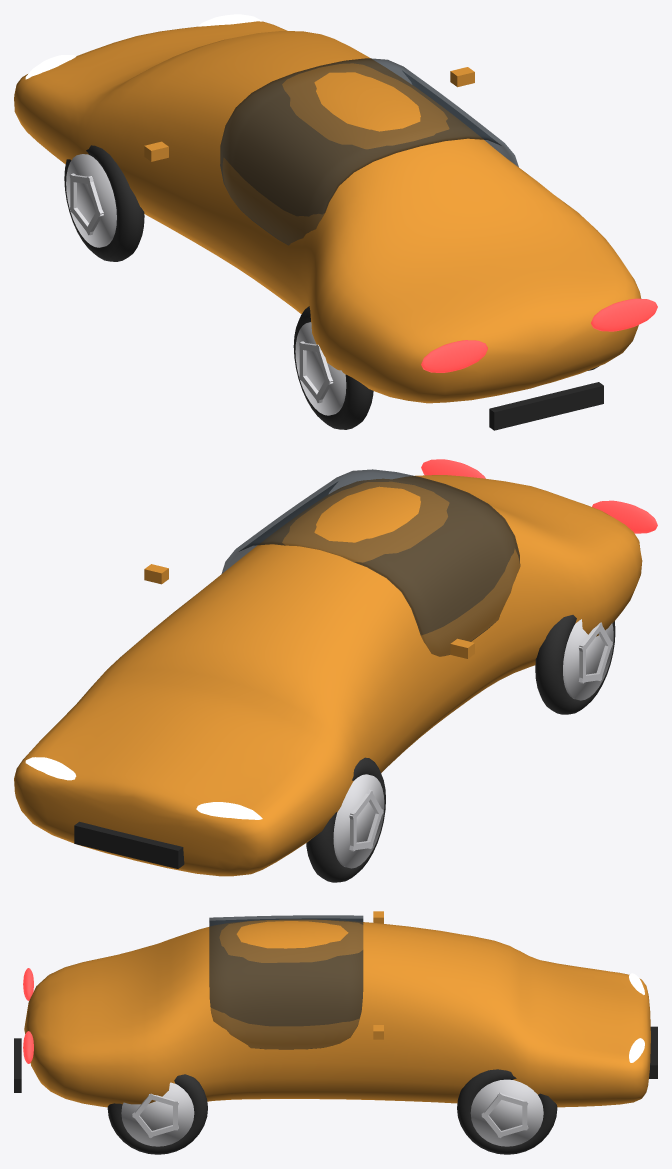
The model's file is porsche_911_carrera_rs_1973.glb.
The picture shows the model from 3 angles, top to bottom: view 1: azimuth 30°, elevation 25°; view 2: azimuth 150°, elevation 25°; view 3: azimuth 270°, elevation 25°; orthographic projection. The views are drawn at different scales.
Visible parts, largest first — view 1: Body, Glass, Tyre_FR, Rim_FR, Diffuser, Rim_RR, Tyre_RR, Taillight_L, Taillight_R; view 2: Body, Glass, Tyre_RR, Rim_FR, FrontIntake, Tyre_FR, Rim_RR, Taillight_R, Taillight_L, Headlight_R, Headlight_L; view 3: Body, Glass, Rim_FL, Rim_RL, Tyre_FL, Tyre_RL, Diffuser, FrontIntake.
Part boxes in pixels (x1,y1,x2,y2): Body: [14, 21, 641, 403]; Glass: [220, 58, 518, 245]; Tyre_FR: [64, 145, 144, 261]; Rim_FR: [66, 154, 116, 247]; Diffuser: [489, 382, 603, 430]; Rim_RR: [295, 322, 346, 415]; Tyre_RR: [293, 306, 373, 429]; Taillight_L: [591, 298, 657, 331]; Taillight_R: [421, 340, 487, 372]; Body: [14, 475, 642, 876]; Glass: [221, 469, 520, 656]; Tyre_RR: [535, 615, 615, 714]; Rim_FR: [333, 774, 384, 868]; FrontIntake: [74, 821, 184, 868]; Tyre_FR: [306, 757, 385, 882]; Rim_RR: [563, 619, 613, 700]; Taillight_R: [592, 500, 657, 533]; Taillight_L: [421, 459, 485, 478]; Headlight_R: [196, 802, 262, 819]; Headlight_L: [25, 757, 76, 780]; Body: [24, 919, 650, 1107]; Glass: [209, 915, 363, 1049]; Rim_FL: [470, 1079, 543, 1146]; Rim_RL: [121, 1082, 194, 1146]; Tyre_FL: [457, 1069, 557, 1154]; Tyre_RL: [107, 1074, 207, 1154]; Diffuser: [14, 1038, 21, 1092]; FrontIntake: [649, 1026, 657, 1078].
Bounding box in the file's own units: 1.85 × 1.28 × 4.19.
